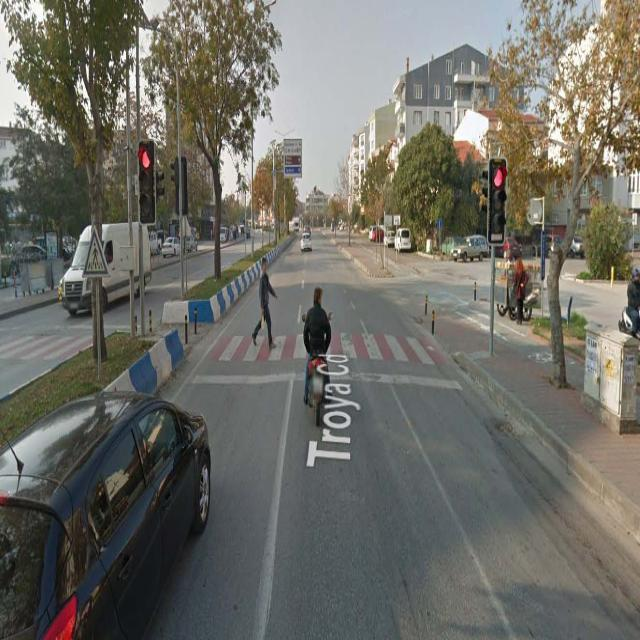kirmizi: (489, 159, 508, 245), (139, 144, 155, 222)
